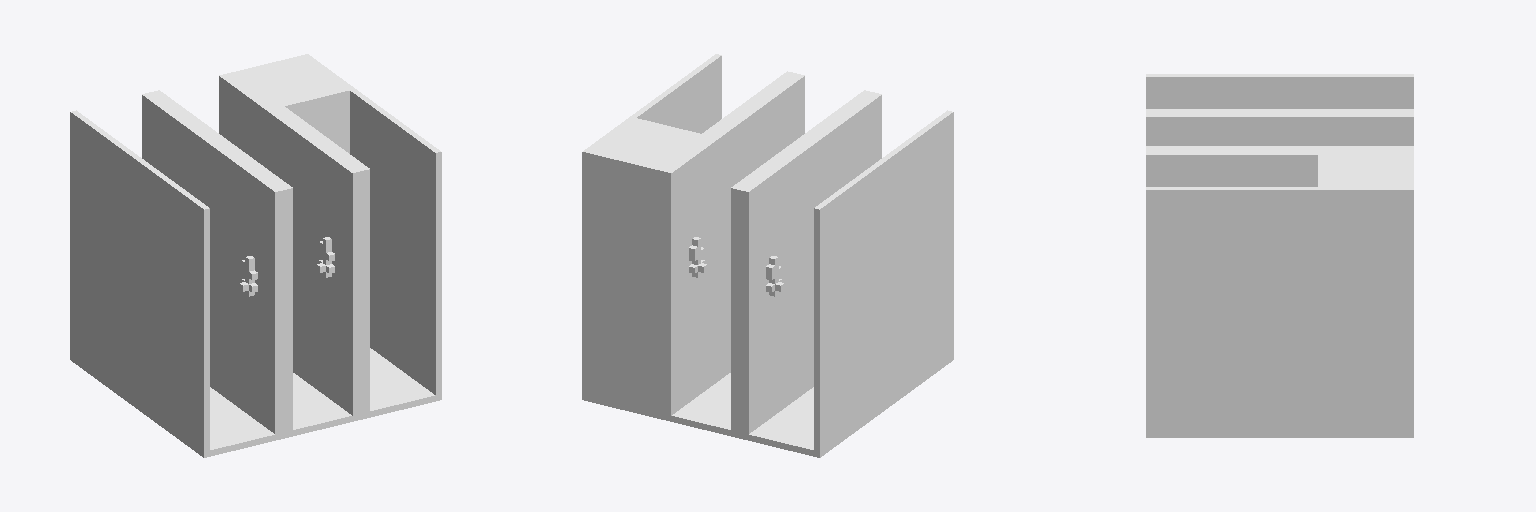
The model's file is SalaFechadaa.obj.
3 views of the same model, side by side, from view 1: azimuth 30°, elevation 25°; view 2: azimuth 150°, elevation 25°; view 3: azimuth 270°, elevation 25° (orthographic).
Parts seen in each view (by area): view 1: SalaFechadaa; view 2: SalaFechadaa; view 3: SalaFechadaa.
Boxes of the visible parts, box(x1,y1,x2,y2) form: SalaFechadaa: box(70, 54, 441, 457); SalaFechadaa: box(582, 54, 953, 457); SalaFechadaa: box(1146, 74, 1413, 437).
Size of the model in its own units: 40 by 40 by 39.